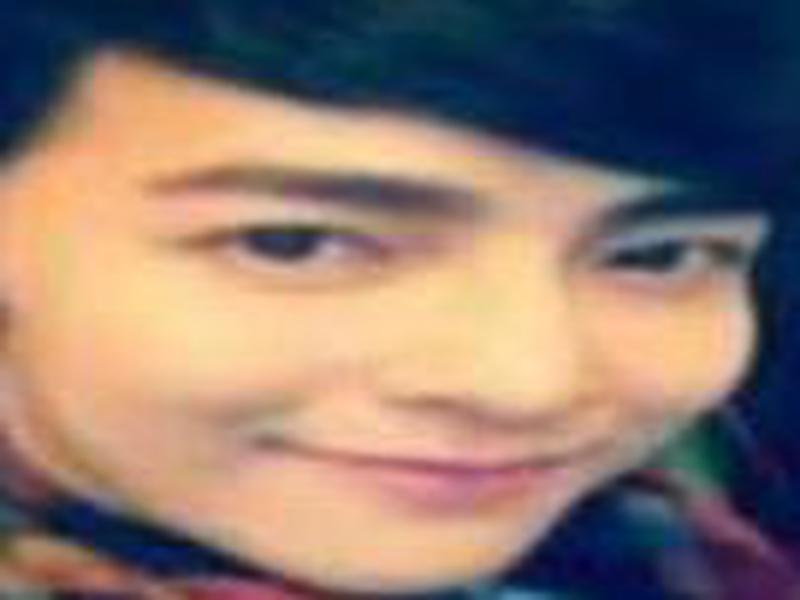without_mask: (17, 38, 770, 600)
